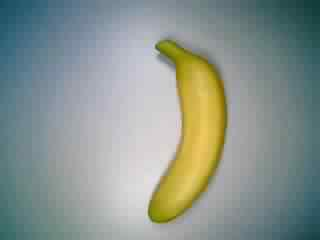banana: (141, 32, 232, 229)
